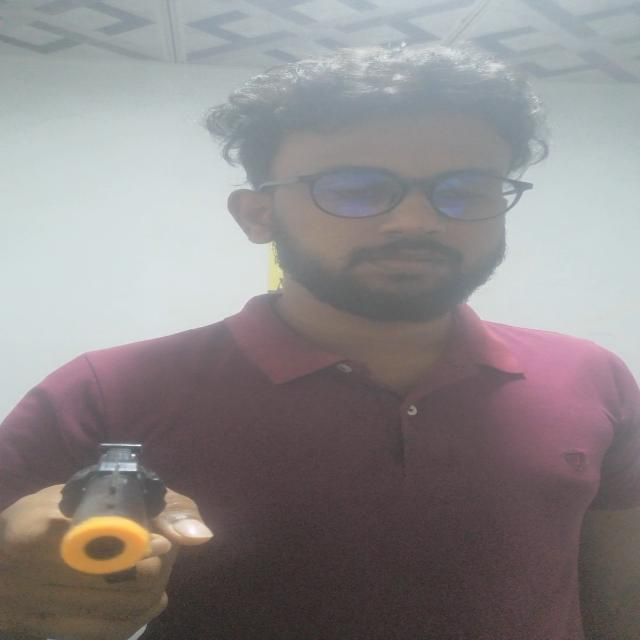Gun_Holder: (0, 426, 266, 640)
Person: (7, 40, 640, 640)
